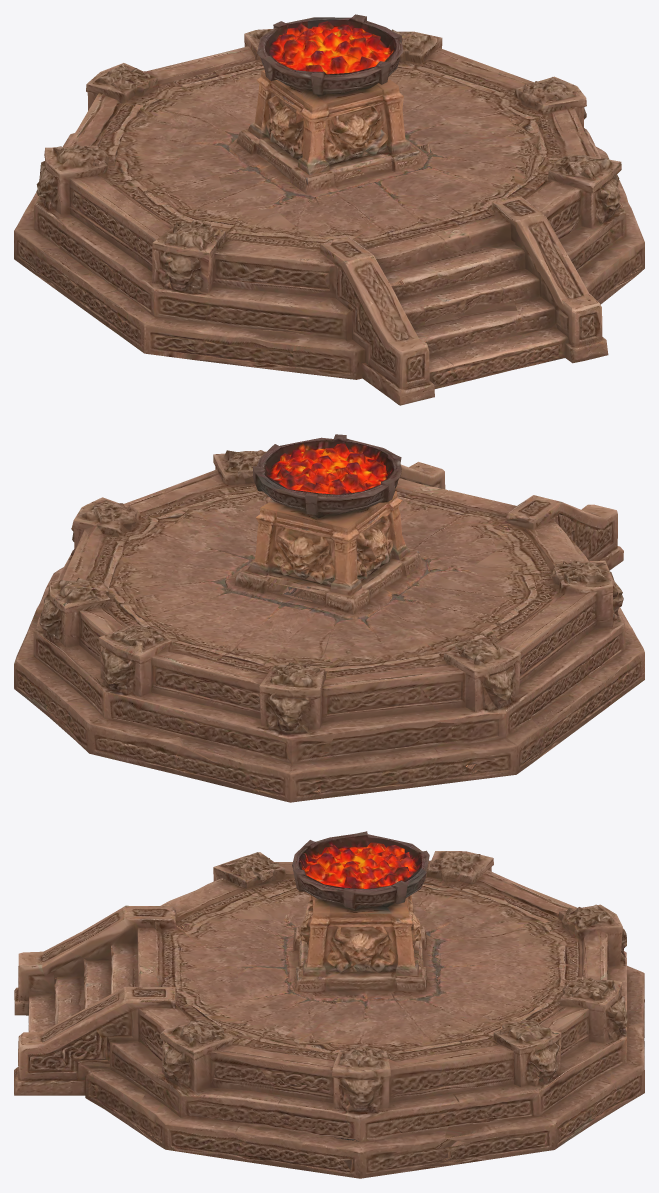
File: prop_fire_altar.347b62c2.glb
3 renders of one model, top to bottom at view 1: azimuth 30°, elevation 25°; view 2: azimuth 150°, elevation 25°; view 3: azimuth 270°, elevation 25°, orthographic. The views are drawn at different scales.
Visible parts, largest first — view 1: tripo_node_010198cf-8885-407f-aeb2-2e6976442991; view 2: tripo_node_010198cf-8885-407f-aeb2-2e6976442991; view 3: tripo_node_010198cf-8885-407f-aeb2-2e6976442991.
Part boxes in pixels (left/top/right/bottom): tripo_node_010198cf-8885-407f-aeb2-2e6976442991: left=14, top=14, right=644, bottom=405; tripo_node_010198cf-8885-407f-aeb2-2e6976442991: left=14, top=434, right=644, bottom=802; tripo_node_010198cf-8885-407f-aeb2-2e6976442991: left=14, top=831, right=644, bottom=1178.
Bounding box in the file's own units: 8.02 × 3 × 8.76.
Materials: 1 (1 with a texture image).
